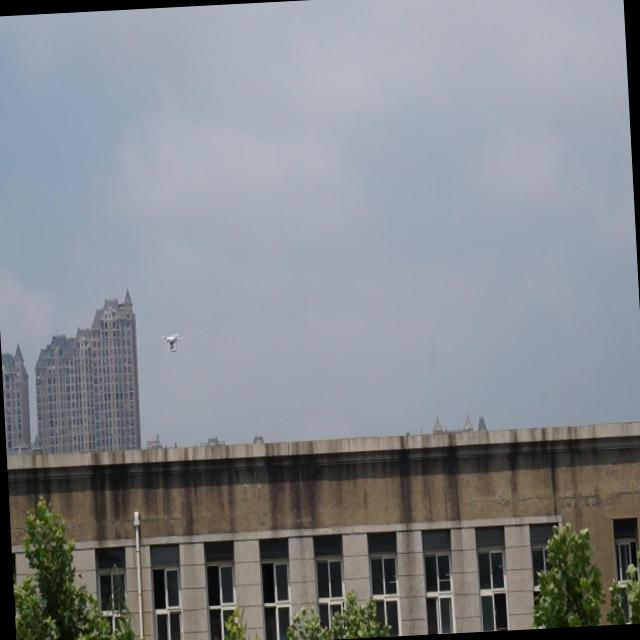drone: (160, 328, 186, 354)
